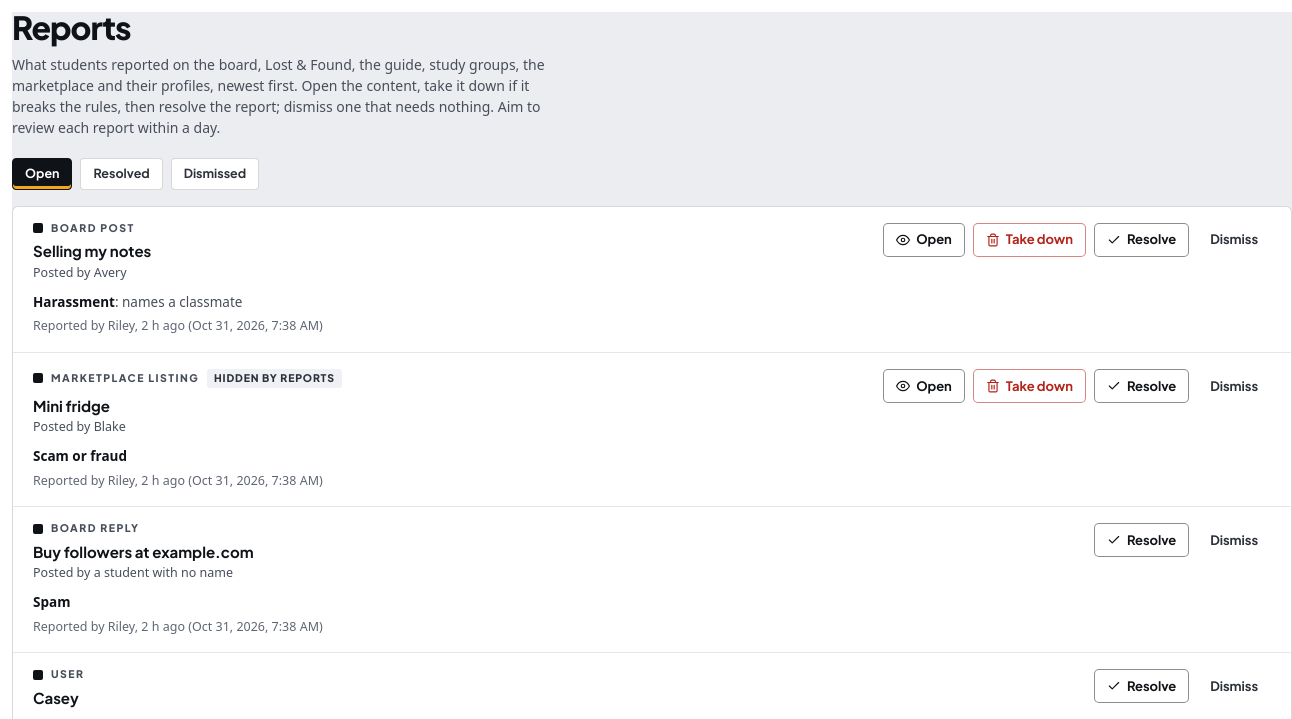
Test case: opens the live content inline, and says so when it is gone
Expected: the text "Selling my notes" is shown, [33, 242, 151, 260]
Click the button "Open" in the row of "Selling my notes".
click(924, 240)  # box [883, 223, 965, 257]
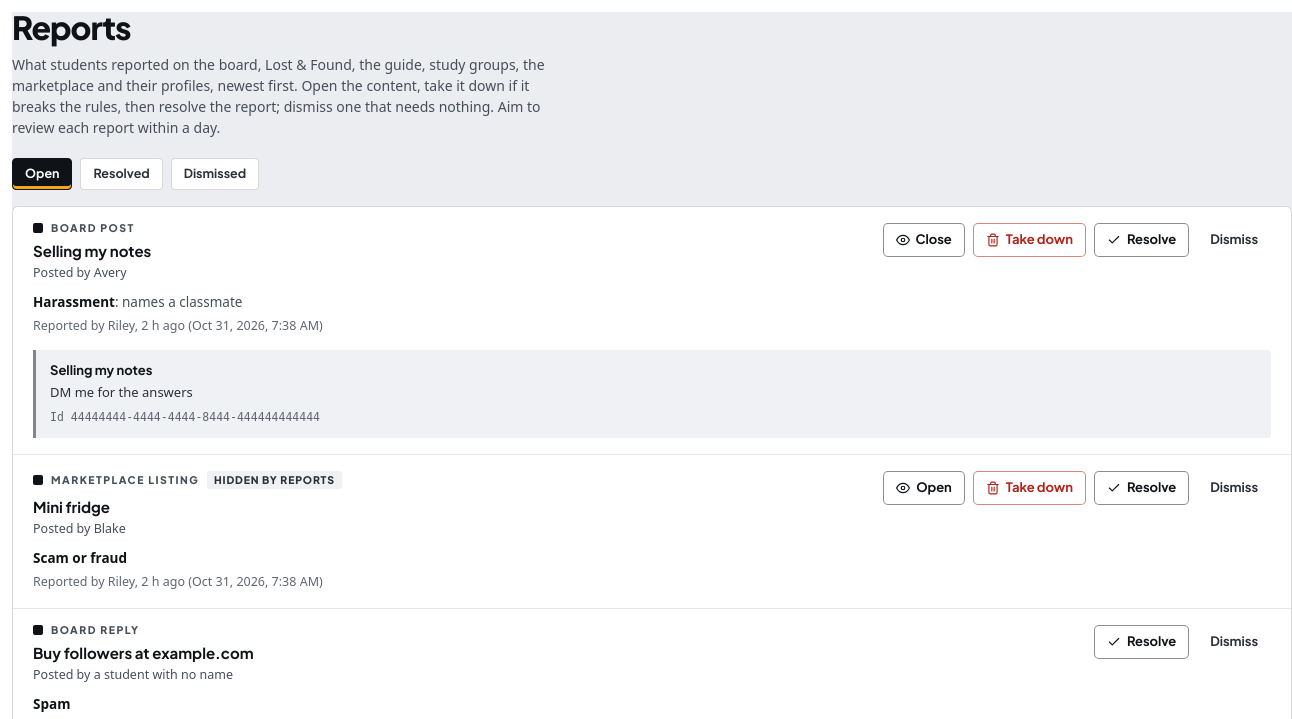
Expected: the text "DM me for the answers" is shown, [50, 383, 193, 401]
Click the button "Open" in the row of "Hidden by reports".
click(924, 488)  # box [883, 471, 965, 505]
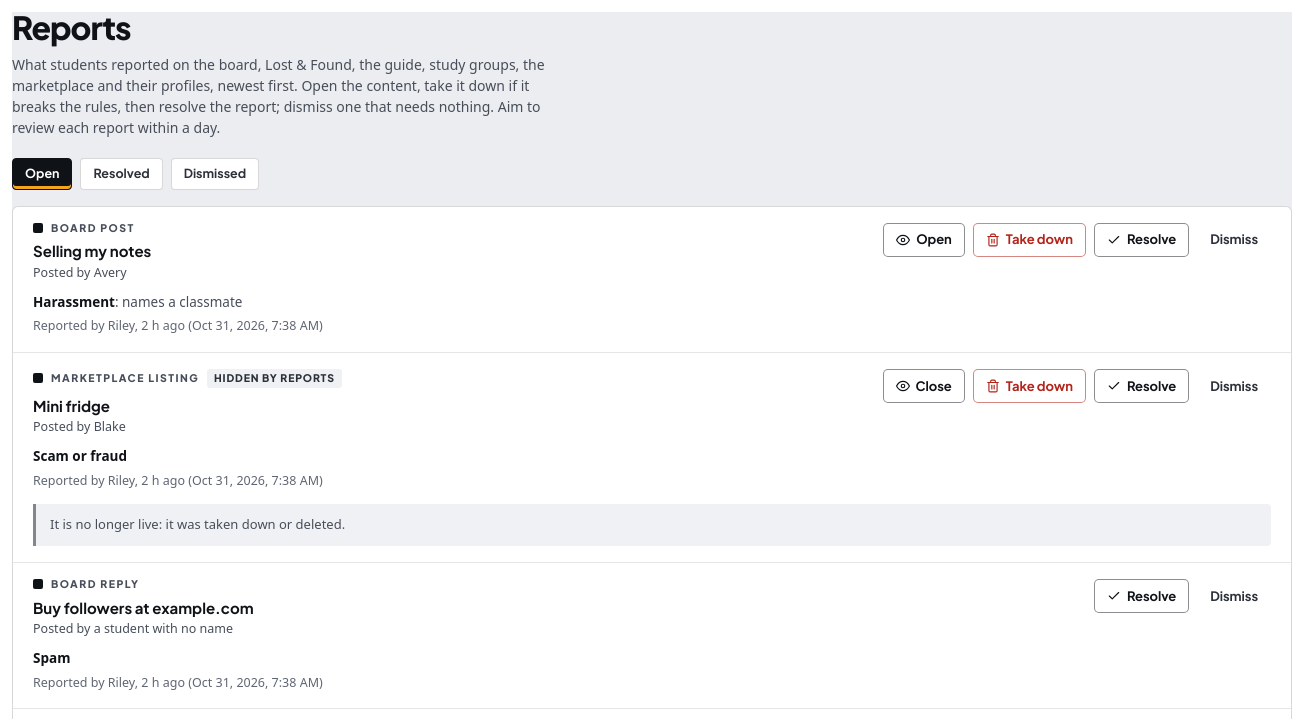
Expected: the text "It is no longer live: it was taken down or deleted." is shown, [50, 515, 345, 533]
